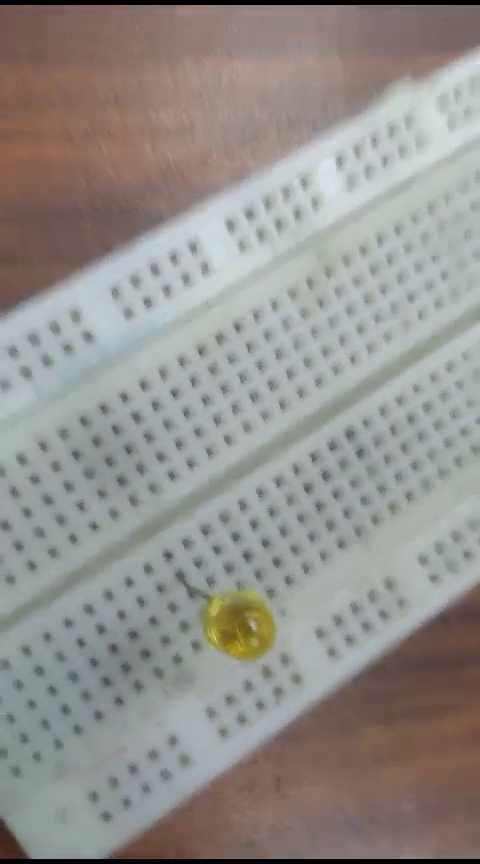LED: (164, 565, 272, 673)
